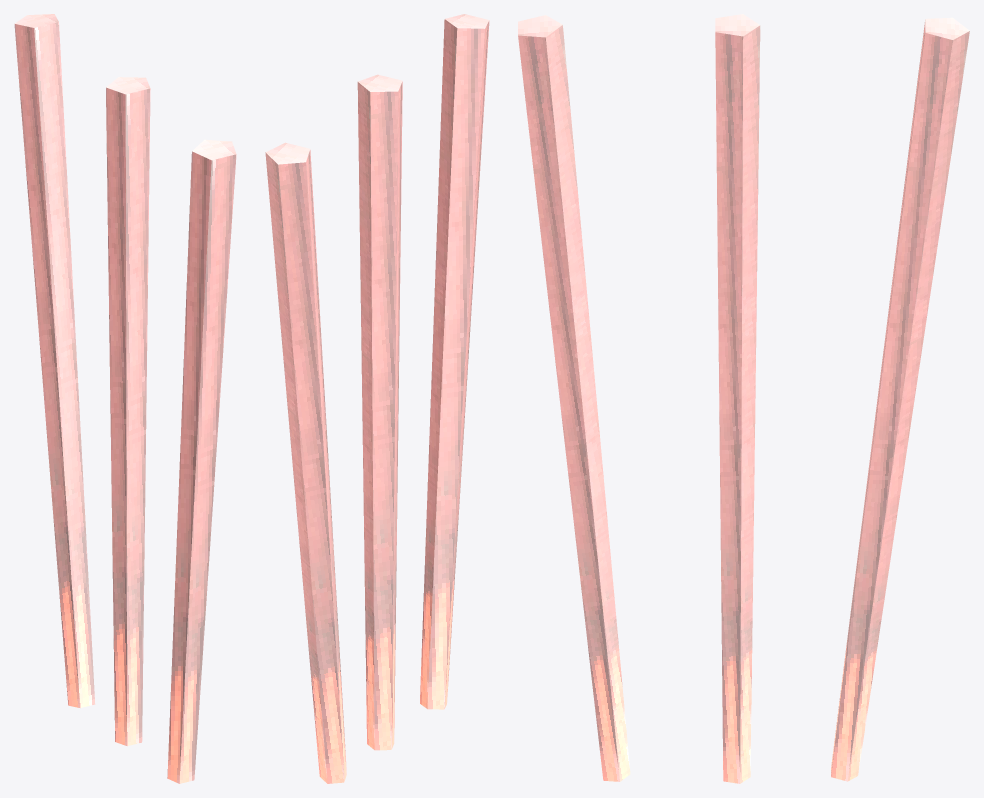
The model's file is incense.glb.
3 views of the same model, side by side, from view 1: azimuth 30°, elevation 25°; view 2: azimuth 150°, elevation 25°; view 3: azimuth 270°, elevation 25° (orthographic). The views are drawn at different scales.
Visible parts, largest first — view 1: Cylinder.001, Cylinder, Cylinder.002; view 2: Cylinder.002, Cylinder, Cylinder.001; view 3: Cylinder.001, Cylinder.002, Cylinder.
Boxes of the visible parts, <box> form: Cylinder.001: <box>14,14,95,707</box>; Cylinder: <box>106,77,150,746</box>; Cylinder.002: <box>167,139,236,783</box>; Cylinder.002: <box>420,14,489,709</box>; Cylinder: <box>357,74,402,750</box>; Cylinder.001: <box>265,142,346,783</box>; Cylinder.001: <box>831,17,969,781</box>; Cylinder.002: <box>518,15,630,781</box>; Cylinder: <box>715,14,760,783</box>.
Size of the model in its own units: 0.3353 by 5.23 by 2.85.
